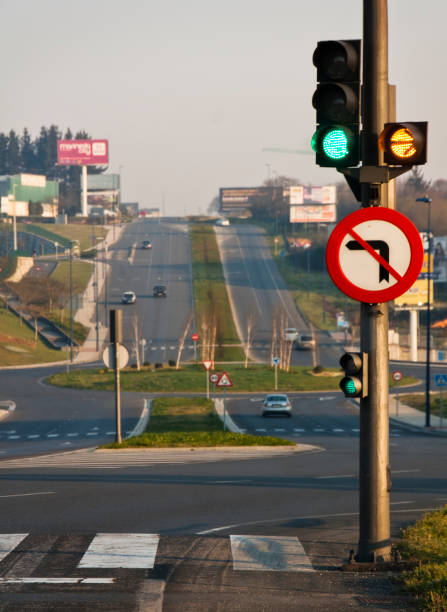green_light: (309, 121, 365, 172)
sola_girilmez: (324, 203, 424, 303)
